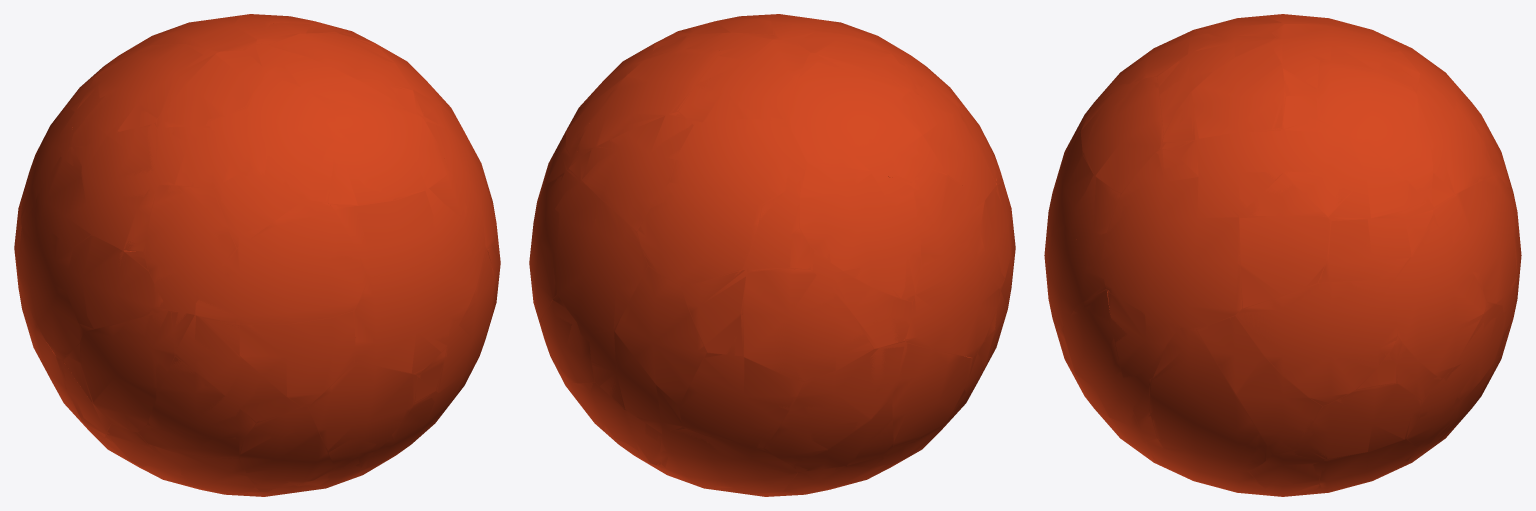
Rendered from DestructibleBall.fbx.
3 renders of one model, left to right at view 1: azimuth 30°, elevation 25°; view 2: azimuth 150°, elevation 25°; view 3: azimuth 270°, elevation 25°, orthographic.
Visible parts, largest first — view 1: Ball, Ball_001_cell_041, Ball_001_cell_089, Ball_001_cell_097, Ball_001_cell_036, Ball_001_cell_088, Ball_001_cell_004, Ball_001_cell_037, Ball_001_cell_049, Ball_001_cell_078, Ball_001_cell_035, Ball_001_cell_045 (+24 smaller); view 2: Ball, Ball_001_cell_083, Ball_001_cell_037, Ball_001_cell_051, Ball_001_cell_023, Ball_001_cell_015, Ball_001_cell_082, Ball_001_cell_040, Ball_001_cell_093, Ball_001_cell_028, Ball_001_cell_086, Ball_001_cell_067 (+25 smaller); view 3: Ball, Ball_001_cell_060, Ball_001_cell_072, Ball_001_cell_008, Ball_001_cell_042, Ball_001_cell_070, Ball_001_cell_057, Ball_001_cell_038, Ball_001_cell_095, Ball_001_cell, Ball_001_cell_015, Ball_001_cell_004 (+25 smaller).
Part boxes in pixels (left/top/right/bottom): Ball: left=14, top=15, right=499, bottom=496; Ball_001_cell_041: left=195, top=202, right=368, bottom=324; Ball_001_cell_089: left=354, top=241, right=486, bottom=374; Ball_001_cell_097: left=331, top=171, right=471, bottom=277; Ball_001_cell_036: left=214, top=311, right=354, bottom=406; Ball_001_cell_088: left=80, top=311, right=174, bottom=430; Ball_001_cell_004: left=328, top=107, right=449, bottom=205; Ball_001_cell_037: left=70, top=44, right=214, bottom=147; Ball_001_cell_049: left=308, top=362, right=417, bottom=468; Ball_001_cell_078: left=246, top=75, right=335, bottom=201; Ball_001_cell_035: left=144, top=185, right=236, bottom=311; Ball_001_cell_045: left=66, top=235, right=167, bottom=330; Ball: left=535, top=14, right=1013, bottom=496; Ball_001_cell_083: left=800, top=162, right=920, bottom=301; Ball_001_cell_037: left=786, top=53, right=921, bottom=181; Ball_001_cell_051: left=741, top=268, right=873, bottom=381; Ball_001_cell_023: left=637, top=187, right=761, bottom=286; Ball_001_cell_015: left=553, top=169, right=647, bottom=334; Ball_001_cell_082: left=615, top=266, right=705, bottom=404; Ball_001_cell_040: left=679, top=353, right=804, bottom=448; Ball_001_cell_093: left=764, top=341, right=904, bottom=464; Ball_001_cell_028: left=678, top=39, right=809, bottom=122; Ball_001_cell_086: left=670, top=119, right=807, bottom=205; Ball_001_cell_067: left=569, top=112, right=693, bottom=231; Ball: left=1048, top=14, right=1517, bottom=496; Ball_001_cell_060: left=1101, top=149, right=1242, bottom=329; Ball_001_cell_072: left=1236, top=280, right=1397, bottom=405; Ball_001_cell_008: left=1150, top=327, right=1271, bottom=471; Ball_001_cell_042: left=1317, top=60, right=1432, bottom=192; Ball_001_cell_070: left=1239, top=184, right=1330, bottom=308; Ball_001_cell_057: left=1394, top=224, right=1486, bottom=378; Ball_001_cell_038: left=1162, top=43, right=1285, bottom=142; Ball_001_cell_095: left=1197, top=316, right=1322, bottom=453; Ball_001_cell: left=1305, top=383, right=1421, bottom=459; Ball_001_cell_015: left=1433, top=175, right=1517, bottom=303; Ball_001_cell_004: left=1081, top=76, right=1163, bottom=192.
Size of the model in its own units: 1.7 by 1.7 by 1.7.
